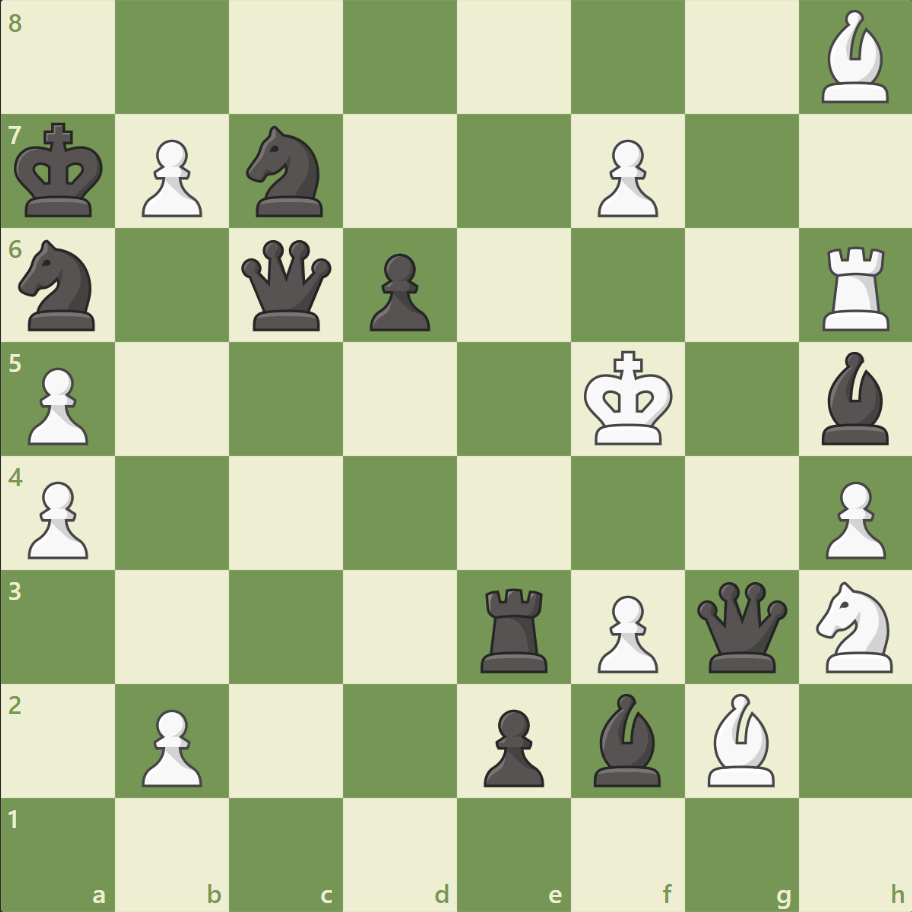B: (812, 6, 896, 109), (698, 687, 782, 790)
K: (579, 344, 679, 452)
N: (806, 575, 903, 677)
P: (133, 132, 208, 223), (20, 359, 95, 450), (20, 473, 95, 564), (133, 700, 208, 791), (588, 132, 662, 223), (815, 473, 889, 564), (588, 586, 662, 677)
R: (814, 239, 897, 336)
b: (585, 687, 669, 790), (812, 347, 896, 449)
k: (11, 117, 111, 225)
n: (11, 234, 108, 337), (238, 121, 335, 223)
p: (474, 700, 549, 791), (361, 246, 435, 337)
q: (691, 576, 790, 676), (237, 236, 336, 335)
r: (473, 579, 556, 676)
